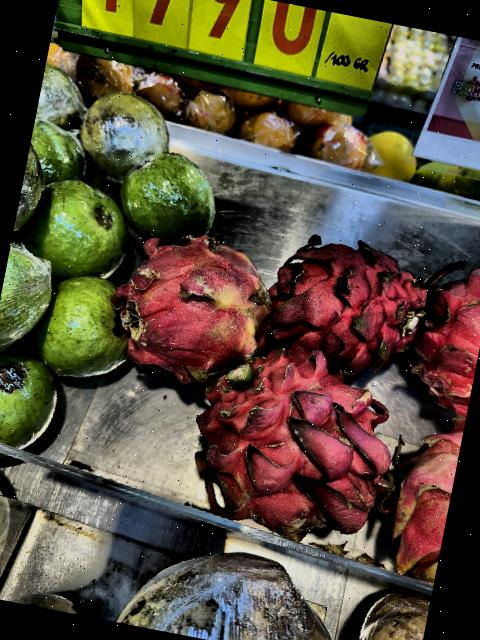buah-naga-belum-matang: (109, 228, 280, 388), (370, 404, 466, 586)
buah-naga-matang: (174, 339, 406, 555), (259, 222, 428, 379), (393, 257, 480, 417)
